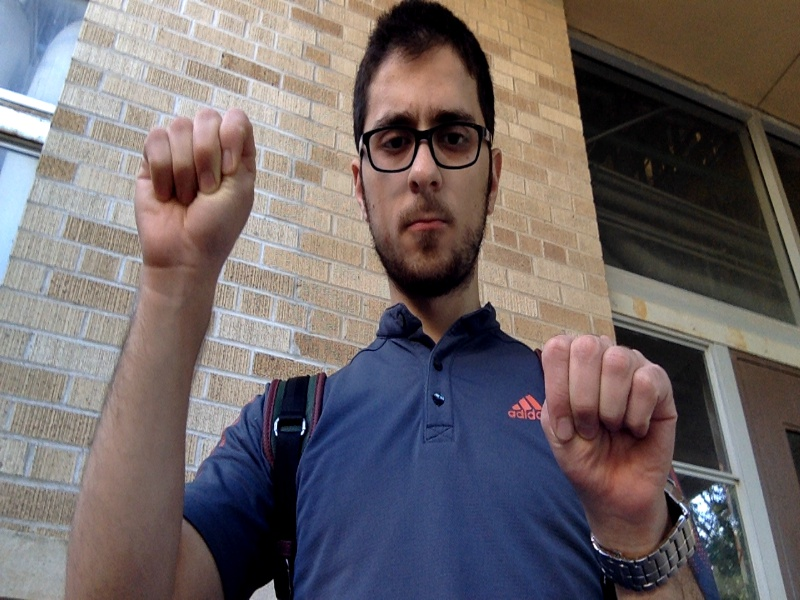0-hand: (542, 335, 673, 512), (135, 109, 255, 269)
